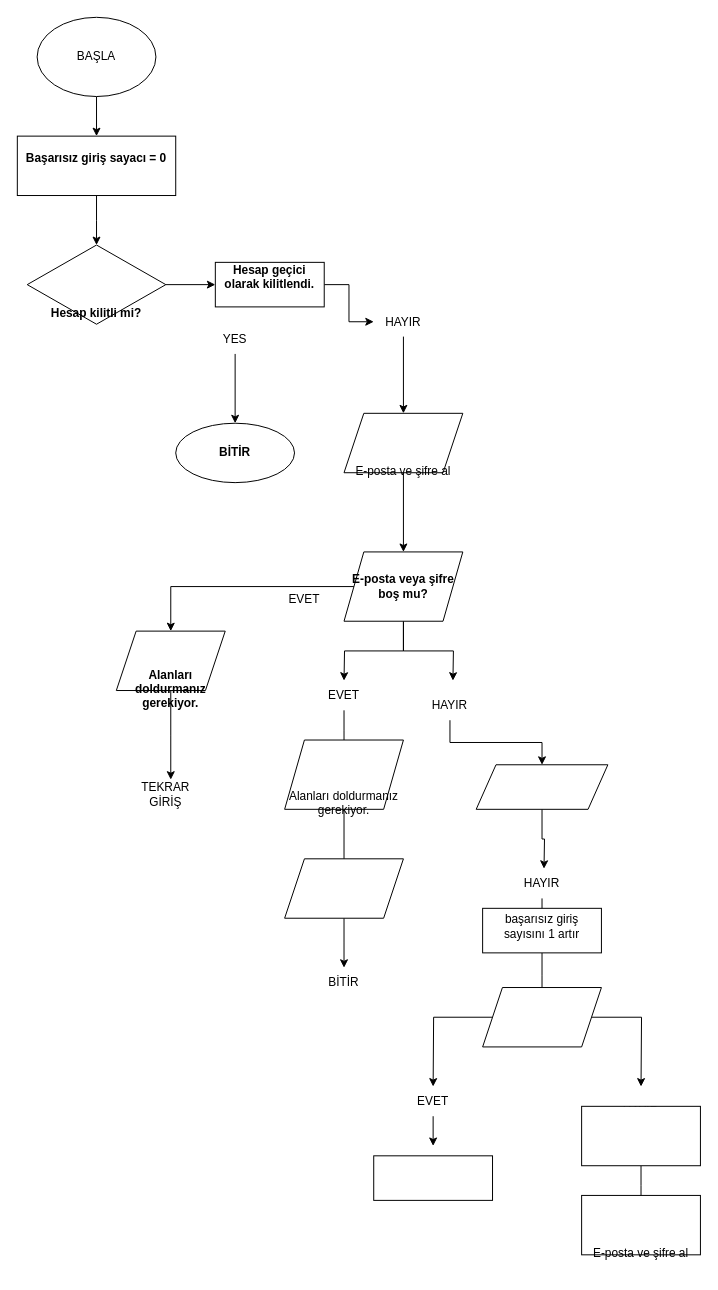
This 718x1290 diagram has some shape labels left out. The box of each missing label's shape, as (x1, y1, x2, y2) in pixels:
Başarılı giriş: (284, 858, 403, 918)
Başarısız giriş sayısı 3’e ulaştı mı?: (482, 987, 601, 1047)
Bilgiler doğru mu ?: (475, 764, 608, 809)
Hesap kilitlenir: (373, 1155, 493, 1200)
Tekrar Giriş: (581, 1105, 700, 1166)
